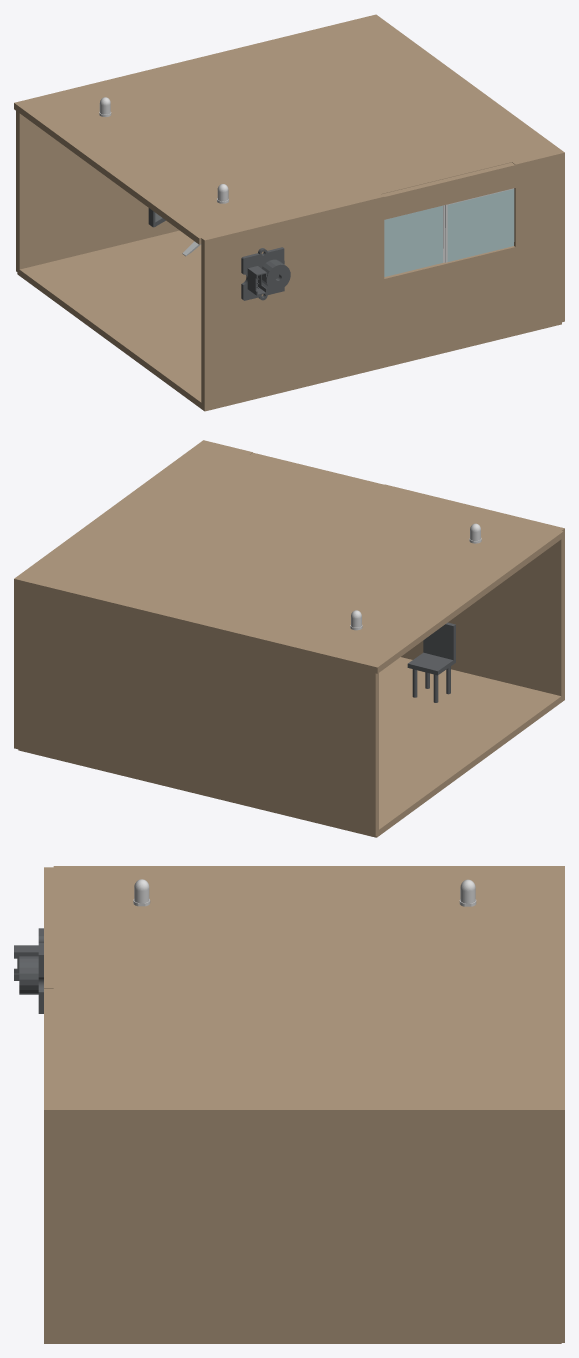
Rendered from Adaptive Lab Gardian.glb.
The picture shows the model from 3 angles, top to bottom: view 1: azimuth 30°, elevation 25°; view 2: azimuth 150°, elevation 25°; view 3: azimuth 270°, elevation 25°; orthographic projection. The views are drawn at different scales.
Visible parts, largest first — view 1: Mesh_Mesh_head_geo.001_lambert2SG.001; view 2: Mesh_Mesh_head_geo.001_lambert2SG.001; view 3: Mesh_Mesh_head_geo.001_lambert2SG.001.
Part boxes in pixels (x1,y1,x2,y2): Mesh_Mesh_head_geo.001_lambert2SG.001: [14, 14, 564, 411]; Mesh_Mesh_head_geo.001_lambert2SG.001: [14, 440, 564, 837]; Mesh_Mesh_head_geo.001_lambert2SG.001: [14, 866, 564, 1343].
Size of the model in its own units: 0.1795 by 0.0891 by 0.1713.
